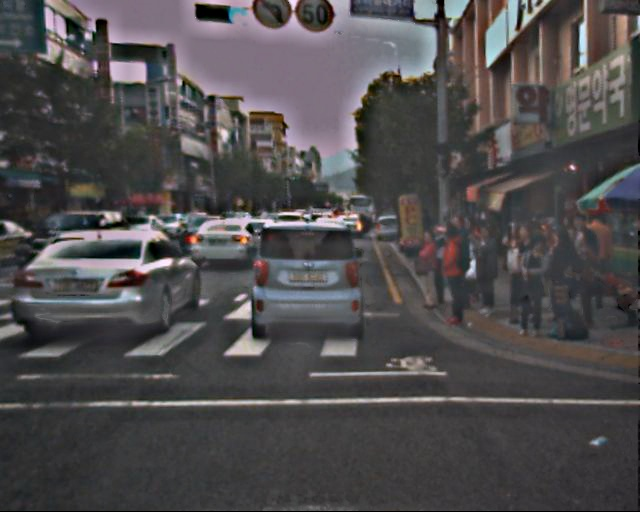person: (562, 229, 601, 325), (576, 209, 615, 305), (515, 235, 554, 330), (434, 228, 473, 322), (468, 223, 504, 312), (540, 227, 576, 315), (506, 222, 540, 304), (410, 230, 441, 306)
